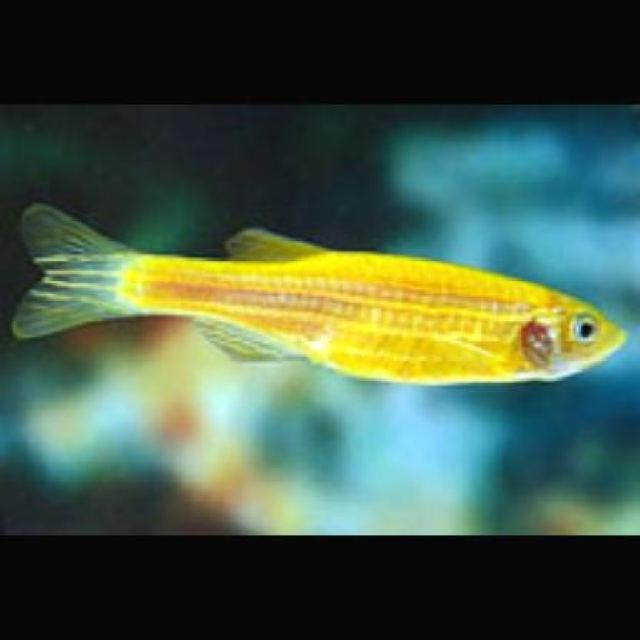ZebraFish: (9, 199, 622, 383)
